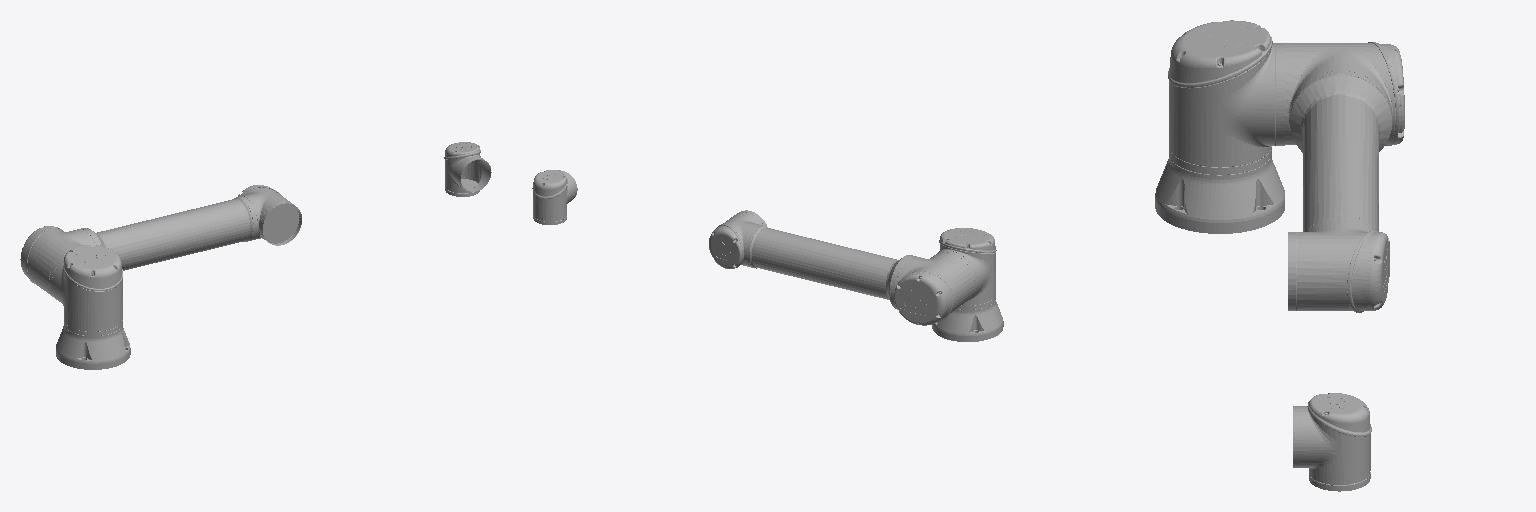
URDF robot description (ur10e_robot):
<?xml version="1.0" ?>
<!-- =================================================================================== -->
<!-- |    This document was autogenerated by xacro from ur_description/urdf/ur10e.xacro | -->
<!-- |    EDITING THIS FILE BY HAND IS NOT RECOMMENDED                                 | -->
<!-- =================================================================================== -->
<robot name="ur10e_robot">
  <!--
    Base UR robot series xacro macro.

    NOTE: this is NOT a URDF. It cannot directly be loaded by consumers
    expecting a flattened '.urdf' file. See the top-level '.xacro' for that
    (but note: that .xacro must still be processed by the xacro command).

    For use in '.launch' files: use one of the 'load_urX.launch' convenience
    launch files.

    This file models the base kinematic chain of a UR robot, which then gets
    parameterised by various configuration files to convert it into a UR3(e),
    UR5(e), UR10(e) or UR16e.

    NOTE: the default kinematic parameters (ie: link lengths, frame locations,
    offets, etc) do not correspond to any particular robot. They are defaults
    only. There WILL be non-zero offsets between the Forward Kinematics results
    in TF (ie: robot_state_publisher) and the values reported by the Teach
    Pendant.

    For accurate (and robot-specific) transforms, the 'kinematics_parameters_file'
    parameter MUST point to a .yaml file containing the appropriate values for
    the targetted robot.

    If using the UniversalRobots/Universal_Robots_ROS_Driver, follow the steps
    described in the readme of that repository to extract the kinematic
    calibration from the controller and generate the required .yaml file.

    Main author of the migration to yaml configs: Ludovic Delval.

    Contributors to previous versions (in no particular order):

     - Felix Messmer
     - Kelsey Hawkins
     - Wim Meeussen
     - Shaun Edwards
     - Nadia Hammoudeh Garcia
     - Dave Hershberger
     - G. vd. Hoorn
     - Philip Long
     - Dave Coleman
     - Miguel Prada
     - Mathias Luedtke
     - Marcel Schnirring
     - Felix von Drigalski
     - Felix Exner
     - Jimmy Da Silva
     - Ajit Krisshna N L
     - Muhammad Asif Rana
  -->
  <!--
    NOTE: the macro defined in this file is NOT part of the public API of this
          package. Users CANNOT rely on this file being available, or stored in
          this location. Nor can they rely on the existence of the macro.
  -->
  <transmission name="shoulder_pan_trans">
    <type>transmission_interface/SimpleTransmission</type>
    <joint name="shoulder_pan_joint">
      <hardwareInterface>hardware_interface/PositionJointInterface</hardwareInterface>
    </joint>
    <actuator name="shoulder_pan_motor">
      <mechanicalReduction>1</mechanicalReduction>
    </actuator>
  </transmission>
  <transmission name="shoulder_lift_trans">
    <type>transmission_interface/SimpleTransmission</type>
    <joint name="shoulder_lift_joint">
      <hardwareInterface>hardware_interface/PositionJointInterface</hardwareInterface>
    </joint>
    <actuator name="shoulder_lift_motor">
      <mechanicalReduction>1</mechanicalReduction>
    </actuator>
  </transmission>
  <transmission name="elbow_trans">
    <type>transmission_interface/SimpleTransmission</type>
    <joint name="elbow_joint">
      <hardwareInterface>hardware_interface/PositionJointInterface</hardwareInterface>
    </joint>
    <actuator name="elbow_motor">
      <mechanicalReduction>1</mechanicalReduction>
    </actuator>
  </transmission>
  <transmission name="wrist_1_trans">
    <type>transmission_interface/SimpleTransmission</type>
    <joint name="wrist_1_joint">
      <hardwareInterface>hardware_interface/PositionJointInterface</hardwareInterface>
    </joint>
    <actuator name="wrist_1_motor">
      <mechanicalReduction>1</mechanicalReduction>
    </actuator>
  </transmission>
  <transmission name="wrist_2_trans">
    <type>transmission_interface/SimpleTransmission</type>
    <joint name="wrist_2_joint">
      <hardwareInterface>hardware_interface/PositionJointInterface</hardwareInterface>
    </joint>
    <actuator name="wrist_2_motor">
      <mechanicalReduction>1</mechanicalReduction>
    </actuator>
  </transmission>
  <transmission name="wrist_3_trans">
    <type>transmission_interface/SimpleTransmission</type>
    <joint name="wrist_3_joint">
      <hardwareInterface>hardware_interface/PositionJointInterface</hardwareInterface>
    </joint>
    <actuator name="wrist_3_motor">
      <mechanicalReduction>1</mechanicalReduction>
    </actuator>
  </transmission>
  <!-- links: main serial chain -->
  <link name="base_link"/>
  <link name="base_link_inertia">
    <visual>
      <origin rpy="0 0 3.141592653589793" xyz="0 0 0"/>
      <geometry>
        <mesh filename="meshes/ur10e/visual/base.dae"/>
      </geometry>
      <material name="LightGrey">
        <color rgba="0.7 0.7 0.7 1.0"/>
      </material>
    </visual>
    <collision>
      <origin rpy="0 0 3.141592653589793" xyz="0 0 0"/>
      <geometry>
        <mesh filename="meshes/ur10e/collision/base.stl"/>
      </geometry>
    </collision>
    <inertial>
      <mass value="4.0"/>
      <origin rpy="0 0 0" xyz="0 0 0"/>
      <inertia ixx="0.0061063308908" ixy="0.0" ixz="0.0" iyy="0.0061063308908" iyz="0.0" izz="0.01125"/>
    </inertial>
  </link>
  <link name="shoulder_link">
    <visual>
      <origin rpy="0 0 3.141592653589793" xyz="0 0 0"/>
      <geometry>
        <mesh filename="meshes/ur10e/visual/shoulder.dae"/>
      </geometry>
      <material name="LightGrey">
        <color rgba="0.7 0.7 0.7 1.0"/>
      </material>
    </visual>
    <collision>
      <origin rpy="0 0 3.141592653589793" xyz="0 0 0"/>
      <geometry>
        <mesh filename="meshes/ur10e/collision/shoulder.stl"/>
      </geometry>
    </collision>
    <inertial>
      <mass value="7.778"/>
      <origin rpy="0 0 0" xyz="0 0 0"/>
      <inertia ixx="0.03147431257693659" ixy="0.0" ixz="0.0" iyy="0.03147431257693659" iyz="0.0" izz="0.021875624999999996"/>
    </inertial>
  </link>
  <link name="upper_arm_link">
    <visual>
      <origin rpy="1.5707963267948966 0 -1.5707963267948966" xyz="0 0 0.1762"/>
      <geometry>
        <mesh filename="meshes/ur10e/visual/upperarm.dae"/>
      </geometry>
      <material name="LightGrey">
        <color rgba="0.7 0.7 0.7 1.0"/>
      </material>
    </visual>
    <collision>
      <origin rpy="1.5707963267948966 0 -1.5707963267948966" xyz="0 0 0.1762"/>
      <geometry>
        <mesh filename="meshes/ur10e/collision/upperarm.stl"/>
      </geometry>
    </collision>
    <inertial>
      <mass value="12.93"/>
      <origin rpy="0 1.5707963267948966 0" xyz="-0.306 0.0 0.175"/>
      <inertia ixx="0.42175380379841093" ixy="0.0" ixz="0.0" iyy="0.42175380379841093" iyz="0.0" izz="0.03636562499999999"/>
    </inertial>
  </link>
  <link name="forearm_link">
    <visual>
      <origin rpy="1.5707963267948966 0 -1.5707963267948966" xyz="0 0 0.0393"/>
      <geometry>
        <mesh filename="meshes/ur10e/visual/forearm.dae"/>
      </geometry>
      <material name="LightGrey">
        <color rgba="0.7 0.7 0.7 1.0"/>
      </material>
    </visual>
    <collision>
      <origin rpy="1.5707963267948966 0 -1.5707963267948966" xyz="0 0 0.0393"/>
      <geometry>
        <mesh filename="meshes/ur10e/collision/forearm.stl"/>
      </geometry>
    </collision>
    <inertial>
      <mass value="3.87"/>
      <origin rpy="0 1.5707963267948966 0" xyz="-0.285775 0.0 0.0393"/>
      <inertia ixx="0.11079302548902206" ixy="0.0" ixz="0.0" iyy="0.11079302548902206" iyz="0.0" izz="0.010884375"/>
    </inertial>
  </link>
  <link name="wrist_1_link">
    <visual>
      <origin rpy="1.5707963267948966 0 0" xyz="0 0 -0.135"/>
      <geometry>
        <mesh filename="meshes/ur10e/visual/wrist1.dae"/>
      </geometry>
      <material name="LightGrey">
        <color rgba="0.7 0.7 0.7 1.0"/>
      </material>
    </visual>
    <collision>
      <origin rpy="1.5707963267948966 0 0" xyz="0 0 -0.135"/>
      <geometry>
        <mesh filename="meshes/ur10e/collision/wrist1.stl"/>
      </geometry>
    </collision>
    <inertial>
      <mass value="1.96"/>
      <origin rpy="0 0 0" xyz="0 0 0"/>
      <inertia ixx="0.005108247956699999" ixy="0.0" ixz="0.0" iyy="0.005108247956699999" iyz="0.0" izz="0.005512499999999999"/>
    </inertial>
  </link>
  <link name="wrist_2_link">
    <visual>
      <origin rpy="0 0 0" xyz="0 0 -0.12"/>
      <geometry>
        <mesh filename="meshes/ur10e/visual/wrist2.dae"/>
      </geometry>
      <material name="LightGrey">
        <color rgba="0.7 0.7 0.7 1.0"/>
      </material>
    </visual>
    <collision>
      <origin rpy="0 0 0" xyz="0 0 -0.12"/>
      <geometry>
        <mesh filename="meshes/ur10e/collision/wrist2.stl"/>
      </geometry>
    </collision>
    <inertial>
      <mass value="1.96"/>
      <origin rpy="0 0 0" xyz="0 0 0"/>
      <inertia ixx="0.005108247956699999" ixy="0.0" ixz="0.0" iyy="0.005108247956699999" iyz="0.0" izz="0.005512499999999999"/>
    </inertial>
  </link>
  <link name="wrist_3_link">
    <visual>
      <origin rpy="1.5707963267948966 0 0" xyz="0 0 -0.1168"/>
      <geometry>
        <mesh filename="meshes/ur10e/visual/wrist3.dae"/>
      </geometry>
      <material name="LightGrey">
        <color rgba="0.7 0.7 0.7 1.0"/>
      </material>
    </visual>
    <collision>
      <origin rpy="1.5707963267948966 0 0" xyz="0 0 -0.1168"/>
      <geometry>
        <mesh filename="meshes/ur10e/collision/wrist3.stl"/>
      </geometry>
    </collision>
    <inertial>
      <mass value="0.202"/>
      <origin rpy="0 0 0" xyz="0.0 0.0 -0.025"/>
      <inertia ixx="0.00014434577559500002" ixy="0.0" ixz="0.0" iyy="0.00014434577559500002" iyz="0.0" izz="0.00020452500000000002"/>
    </inertial>
  </link>
  <!-- joints: main serial chain -->
  <joint name="base_link-base_link_inertia" type="fixed">
    <parent link="base_link"/>
    <child link="base_link_inertia"/>
    <!-- 'base_link' is REP-103 aligned (so X+ forward), while the internal
           frames of the robot/controller have X+ pointing backwards.
           Use the joint between 'base_link' and 'base_link_inertia' (a dummy
           link/frame) to introduce the necessary rotation over Z (of pi rad).
      -->
    <origin rpy="0 0 3.141592653589793" xyz="0 0 0"/>
  </joint>
  <joint name="shoulder_pan_joint" type="revolute">
    <parent link="base_link_inertia"/>
    <child link="shoulder_link"/>
    <origin rpy="0 0 0" xyz="0 0 0.1807"/>
    <axis xyz="0 0 1"/>
    <limit effort="330.0" lower="-6.283185307179586" upper="6.283185307179586" velocity="2.0943951023931953"/>
    <dynamics damping="0" friction="0"/>
  </joint>
  <joint name="shoulder_lift_joint" type="revolute">
    <parent link="shoulder_link"/>
    <child link="upper_arm_link"/>
    <origin rpy="1.570796327 0 0" xyz="0 0 0"/>
    <axis xyz="0 0 1"/>
    <limit effort="330.0" lower="-6.283185307179586" upper="6.283185307179586" velocity="2.0943951023931953"/>
    <dynamics damping="0" friction="0"/>
  </joint>
  <joint name="elbow_joint" type="revolute">
    <parent link="upper_arm_link"/>
    <child link="forearm_link"/>
    <origin rpy="0 0 0" xyz="-0.6127 0 0"/>
    <axis xyz="0 0 1"/>
    <limit effort="150.0" lower="-3.141592653589793" upper="3.141592653589793" velocity="3.141592653589793"/>
    <dynamics damping="0" friction="0"/>
  </joint>
  <joint name="wrist_1_joint" type="revolute">
    <parent link="forearm_link"/>
    <child link="wrist_1_link"/>
    <origin rpy="0 0 0" xyz="-0.57155 0 0.17415"/>
    <axis xyz="0 0 1"/>
    <limit effort="56.0" lower="-6.283185307179586" upper="6.283185307179586" velocity="3.141592653589793"/>
    <dynamics damping="0" friction="0"/>
  </joint>
  <joint name="wrist_2_joint" type="revolute">
    <parent link="wrist_1_link"/>
    <child link="wrist_2_link"/>
    <origin rpy="1.570796327 0 0" xyz="0 -0.11985 -2.458164590756244e-11"/>
    <axis xyz="0 0 1"/>
    <limit effort="56.0" lower="-6.283185307179586" upper="6.283185307179586" velocity="3.141592653589793"/>
    <dynamics damping="0" friction="0"/>
  </joint>
  <joint name="wrist_3_joint" type="revolute">
    <parent link="wrist_2_link"/>
    <child link="wrist_3_link"/>
    <origin rpy="1.570796326589793 3.141592653589793 3.141592653589793" xyz="0 0.11655 -2.390480459346185e-11"/>
    <axis xyz="0 0 1"/>
    <limit effort="56.0" lower="-6.283185307179586" upper="6.283185307179586" velocity="3.141592653589793"/>
    <dynamics damping="0" friction="0"/>
  </joint>
  <!-- ROS-Industrial 'base' frame: base_link to UR 'Base' Coordinates transform -->
  <link name="base"/>
  <joint name="base_link-base_fixed_joint" type="fixed">
    <!-- Note the rotation over Z of pi radians: as base_link is REP-103
           aligned (ie: has X+ forward, Y+ left and Z+ up), this is needed
           to correctly align 'base' with the 'Base' coordinate system of
           the UR controller.
      -->
    <origin rpy="0 0 3.141592653589793" xyz="0 0 0"/>
    <parent link="base_link"/>
    <child link="base"/>
  </joint>
  <!-- ROS-Industrial 'flange' frame: attachment point for EEF models -->
  <link name="flange"/>
  <joint name="wrist_3-flange" type="fixed">
    <parent link="wrist_3_link"/>
    <child link="flange"/>
    <origin rpy="0 -1.5707963267948966 -1.5707963267948966" xyz="0 0 0"/>
  </joint>
  <!-- ROS-Industrial 'tool0' frame: all-zeros tool frame -->
  <link name="tool0"/>
  <joint name="flange-tool0" type="fixed">
    <!-- default toolframe: X+ left, Y+ up, Z+ front -->
    <origin rpy="1.5707963267948966 0 1.5707963267948966" xyz="0 0 0"/>
    <parent link="flange"/>
    <child link="tool0"/>
  </joint>

  <joint name="camera_mount_joint" type="fixed">
    <origin rpy="0 0 -3.14" xyz="0 0 0"/>
    <parent link="flange"/>
    <child link="camera_mount"/>
  </joint>
  <link name="camera_mount"/>
</robot>

--- Render facts (derived) ---
Views: 3 orthographic renders of the robot side by side, from view 1: azimuth 30°, elevation 25°; view 2: azimuth 150°, elevation 25°; view 3: azimuth 270°, elevation 25°.
Robot: ur10e_robot — 12 links, 11 joints (6 revolute, 5 fixed); root link base_link; default pose: all joints at 0.
Visible links, largest first — view 1: upper_arm_link, shoulder_link, base_link_inertia, wrist_1_link; view 2: upper_arm_link, shoulder_link, base_link_inertia, wrist_1_link; view 3: upper_arm_link, shoulder_link, base_link_inertia, wrist_1_link.
Link boxes in pixels (<box>): upper_arm_link: <box>20,185,301,296</box>; shoulder_link: <box>49,245,122,330</box>; base_link_inertia: <box>56,320,130,369</box>; wrist_1_link: <box>444,142,491,196</box>; upper_arm_link: <box>709,210,974,325</box>; shoulder_link: <box>937,228,996,304</box>; base_link_inertia: <box>932,296,1003,341</box>; wrist_1_link: <box>532,170,577,224</box>; upper_arm_link: <box>1285,42,1404,312</box>; shoulder_link: <box>1168,20,1284,166</box>; base_link_inertia: <box>1155,146,1284,233</box>; wrist_1_link: <box>1293,393,1371,491</box>.
Bounding box of the posed robot: 1.33 × 0.3644 × 0.2746 m (x, y, z).
4 mesh visuals loaded from 7 distinct referenced files (4 Collada DAE); not drawn: 3 (reference not matched to a file when rendering).
